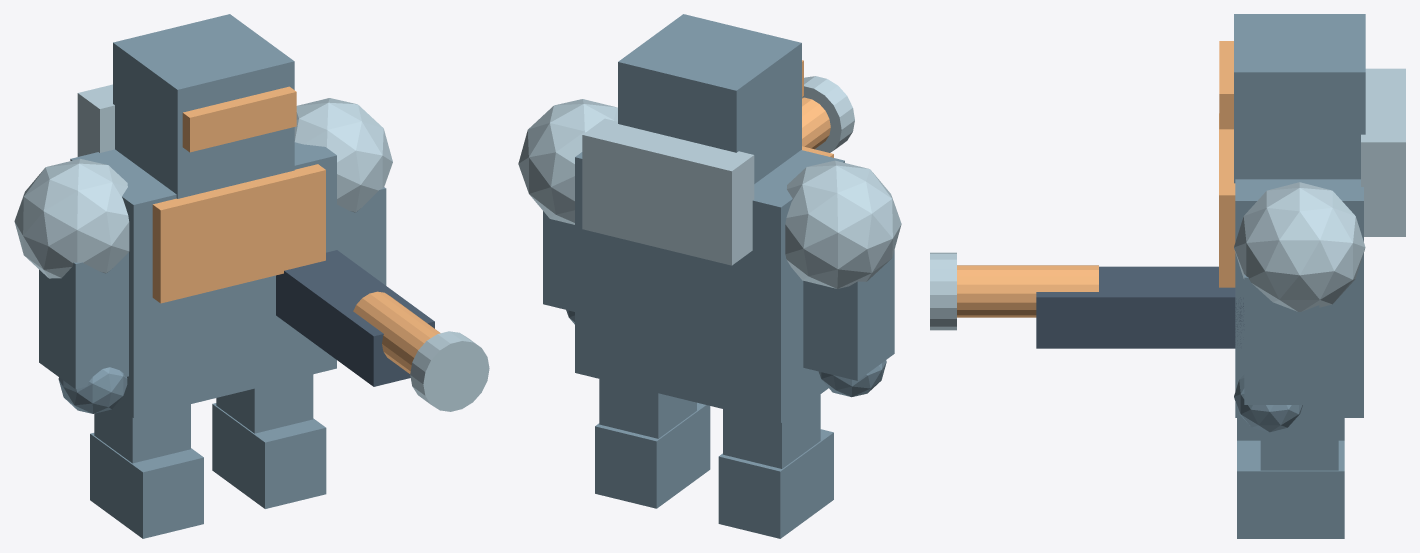
The model's file is ember_striker.glb.
The picture shows the model from 3 angles, left to right: view 1: azimuth 30°, elevation 25°; view 2: azimuth 150°, elevation 25°; view 3: azimuth 270°, elevation 25°; orthographic projection.
Parts seen in each view (by area): view 1: torso_4, helmet_6, chestplate_5, shoulder_joint_8, weapon_body_15, arm_armor_9, boots_2, boots_0, shoulder_joint_11, weapon_muzzle_17, visor_7, leg_armor_1 (+5 smaller); view 2: torso_4, helmet_6, power_backpack_14, shoulder_joint_8, arm_armor_9, boots_0, boots_2, shoulder_joint_11, leg_armor_1, leg_armor_3, arm_armor_12, weapon_muzzle_17 (+2 smaller); view 3: helmet_6, weapon_body_15, shoulder_joint_11, torso_4, boots_2, arm_armor_12, power_backpack_14, energy_barrel_16, leg_armor_3, chestplate_5, weapon_muzzle_17, wrist_joint_13 (+2 smaller).
Boxes of the visible parts, <box> form: torso_4: <box>70,142,336,417</box>; helmet_6: <box>113,14,294,198</box>; chestplate_5: <box>152,164,325,303</box>; shoulder_joint_8: <box>14,158,129,278</box>; weapon_body_15: <box>276,250,434,386</box>; arm_armor_9: <box>39,252,128,389</box>; boots_2: <box>212,403,326,508</box>; boots_0: <box>90,433,203,538</box>; shoulder_joint_11: <box>294,98,392,212</box>; weapon_muzzle_17: <box>410,331,489,411</box>; visor_7: <box>182,86,296,152</box>; leg_armor_1: <box>94,404,190,463</box>; torso_4: <box>575,150,844,422</box>; helmet_6: <box>618,14,801,183</box>; power_backpack_14: <box>582,118,754,265</box>; shoulder_joint_8: <box>785,160,901,288</box>; arm_armor_9: <box>803,250,894,380</box>; boots_0: <box>718,429,833,538</box>; boots_2: <box>595,402,710,508</box>; shoulder_joint_11: <box>518,99,617,224</box>; leg_armor_1: <box>723,394,820,468</box>; leg_armor_3: <box>599,379,696,438</box>; arm_armor_12: <box>543,211,574,311</box>; weapon_muzzle_17: <box>802,76,854,152</box>; helmet_6: <box>1234,14,1365,183</box>; weapon_body_15: <box>1036,266,1244,348</box>; shoulder_joint_11: <box>1234,182,1365,311</box>; torso_4: <box>1235,179,1363,417</box>; boots_2: <box>1237,440,1344,538</box>; arm_armor_12: <box>1244,274,1319,404</box>; power_backpack_14: <box>1361,68,1405,236</box>; energy_barrel_16: <box>957,265,1098,317</box>; leg_armor_3: <box>1260,418,1338,470</box>; chestplate_5: <box>1219,113,1235,287</box>; weapon_muzzle_17: <box>930,252,956,330</box>; wrist_joint_13: <box>1234,374,1302,432</box>.
Bounding box in the file's own units: 1.42 × 1.66 × 1.59.
